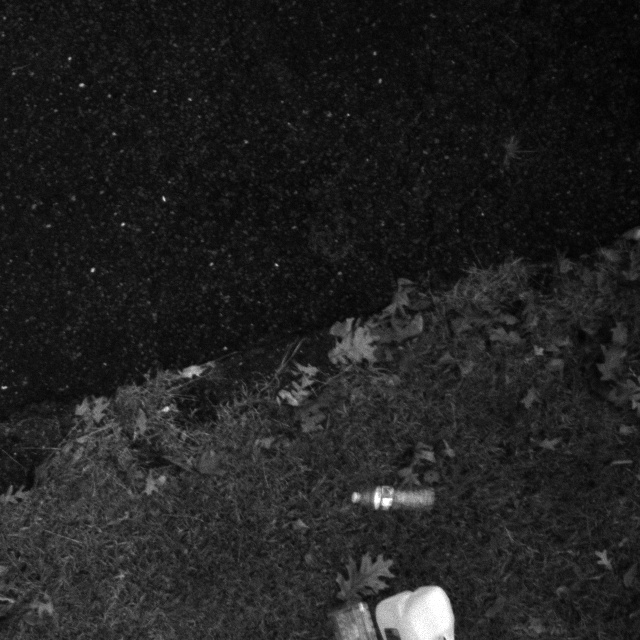bottle: (346, 483, 445, 523)
can: (372, 585, 465, 640)
